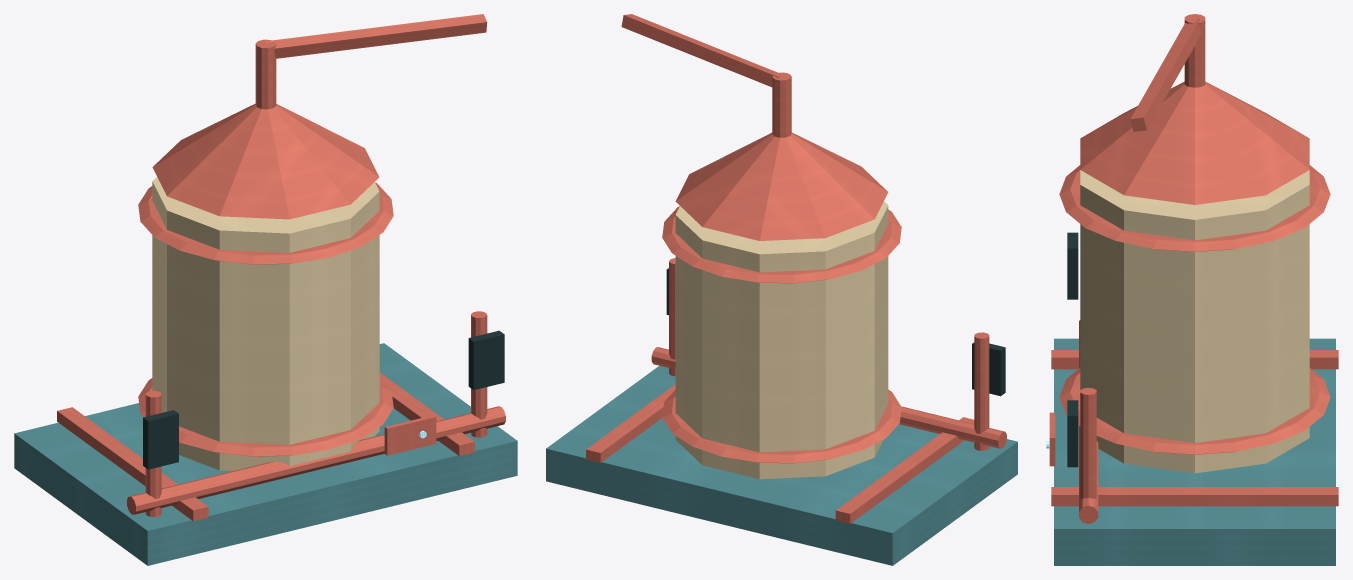
File: atlas100-s076-a02.lod1.glb
3 renders of one model, left to right at view 1: azimuth 30°, elevation 25°; view 2: azimuth 150°, elevation 25°; view 3: azimuth 270°, elevation 25°, orthographic. The views are drawn at different scales.
Parts seen in each view (by area): view 1: atlas100-s076-a02:part-003, atlas100-s076-a02:part-000, atlas100-s076-a02:part-007, atlas100-s076-a02:part-014, atlas100-s076-a02:part-005, atlas100-s076-a02:part-009, atlas100-s076-a02:part-004, atlas100-s076-a02:part-001, atlas100-s076-a02:part-013, atlas100-s076-a02:part-011, atlas100-s076-a02:part-002, atlas100-s076-a02:part-015 (+3 smaller); view 2: atlas100-s076-a02:part-003, atlas100-s076-a02:part-000, atlas100-s076-a02:part-007, atlas100-s076-a02:part-005, atlas100-s076-a02:part-004, atlas100-s076-a02:part-001, atlas100-s076-a02:part-009, atlas100-s076-a02:part-014, atlas100-s076-a02:part-002, atlas100-s076-a02:part-010, atlas100-s076-a02:part-008, atlas100-s076-a02:part-011 (+1 smaller); view 3: atlas100-s076-a02:part-003, atlas100-s076-a02:part-000, atlas100-s076-a02:part-007, atlas100-s076-a02:part-002, atlas100-s076-a02:part-005, atlas100-s076-a02:part-004, atlas100-s076-a02:part-009, atlas100-s076-a02:part-012, atlas100-s076-a02:part-001, atlas100-s076-a02:part-008, atlas100-s076-a02:part-014, atlas100-s076-a02:part-011 (+2 smaller).
Boxes of the visible parts, x1,y1,x2,y2 form: atlas100-s076-a02:part-003: [152, 177, 379, 470]; atlas100-s076-a02:part-000: [14, 343, 517, 565]; atlas100-s076-a02:part-007: [152, 103, 379, 219]; atlas100-s076-a02:part-014: [127, 406, 505, 514]; atlas100-s076-a02:part-005: [138, 182, 393, 264]; atlas100-s076-a02:part-009: [264, 14, 487, 58]; atlas100-s076-a02:part-004: [138, 378, 393, 456]; atlas100-s076-a02:part-001: [57, 407, 208, 521]; atlas100-s076-a02:part-013: [468, 330, 504, 389]; atlas100-s076-a02:part-011: [143, 410, 178, 469]; atlas100-s076-a02:part-002: [379, 372, 474, 456]; atlas100-s076-a02:part-015: [384, 415, 436, 455]; atlas100-s076-a02:part-003: [675, 201, 888, 479]; atlas100-s076-a02:part-000: [546, 365, 1017, 565]; atlas100-s076-a02:part-007: [675, 132, 888, 240]; atlas100-s076-a02:part-005: [662, 206, 901, 283]; atlas100-s076-a02:part-004: [662, 389, 901, 463]; atlas100-s076-a02:part-001: [835, 417, 974, 523]; atlas100-s076-a02:part-009: [621, 14, 780, 87]; atlas100-s076-a02:part-014: [651, 347, 1006, 448]; atlas100-s076-a02:part-002: [586, 384, 675, 462]; atlas100-s076-a02:part-010: [974, 332, 989, 450]; atlas100-s076-a02:part-008: [772, 72, 791, 137]; atlas100-s076-a02:part-011: [972, 342, 1005, 396]; atlas100-s076-a02:part-003: [1080, 170, 1309, 473]; atlas100-s076-a02:part-000: [1054, 338, 1335, 565]; atlas100-s076-a02:part-007: [1080, 81, 1309, 204]; atlas100-s076-a02:part-002: [1051, 487, 1338, 506]; atlas100-s076-a02:part-005: [1059, 165, 1330, 251]; atlas100-s076-a02:part-004: [1059, 368, 1330, 454]; atlas100-s076-a02:part-009: [1130, 18, 1201, 131]; atlas100-s076-a02:part-012: [1080, 387, 1096, 499]; atlas100-s076-a02:part-001: [1051, 350, 1338, 369]; atlas100-s076-a02:part-008: [1184, 14, 1205, 87]; atlas100-s076-a02:part-014: [1079, 320, 1098, 523]; atlas100-s076-a02:part-011: [1067, 232, 1078, 299].
Size of the model in its own units: 2.95 by 3.19 by 1.87.
Materials: 5 (5 with a texture image).
